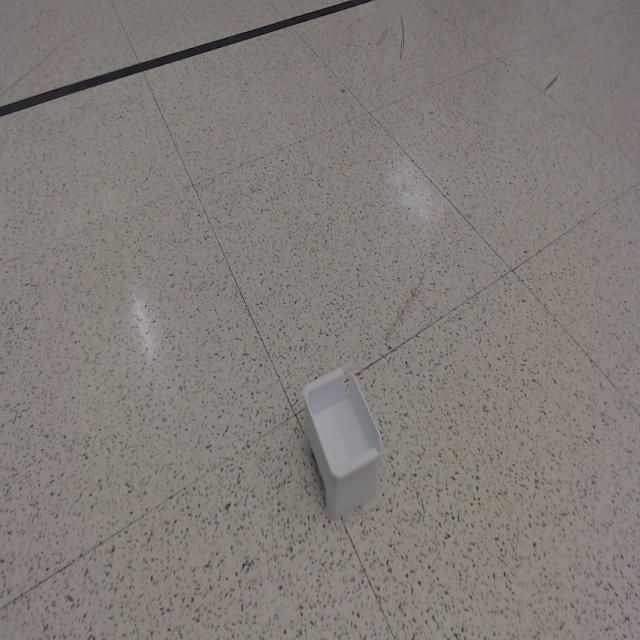wbox: (301, 363, 383, 521)
